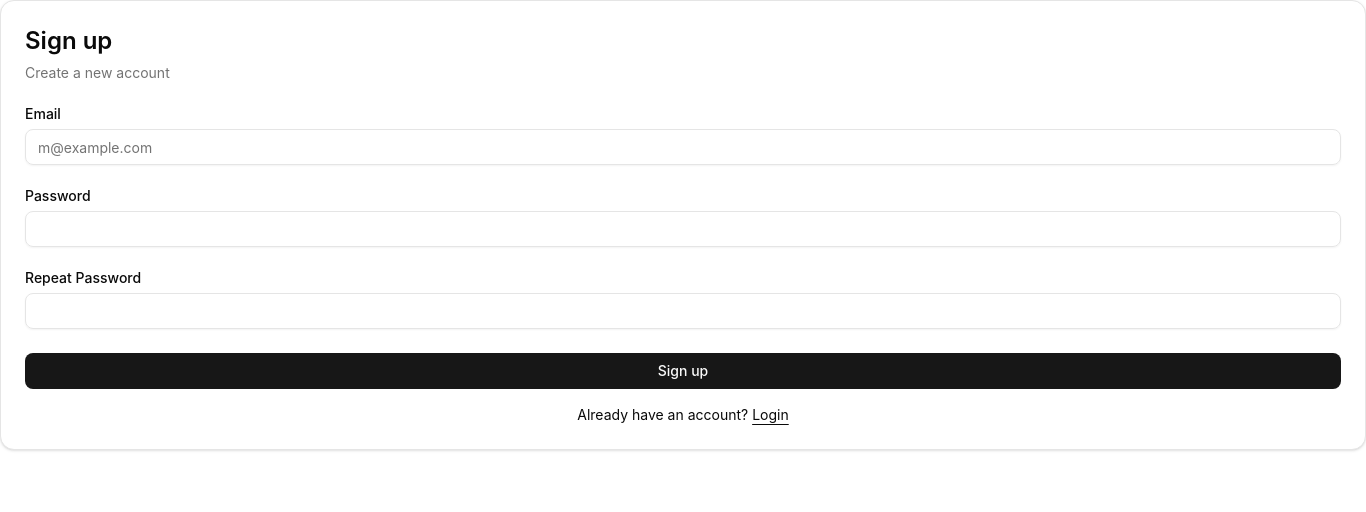
Test: SignUpForm — real Supabase signUp › NEGATIVE: Supabase error → generic message, raw detail NOT surfaced, no navigation
Type "new@brand.com" into the field labelled "Email".
click(683, 147); type("new@brand.com")  # box [25,129,1341,165]
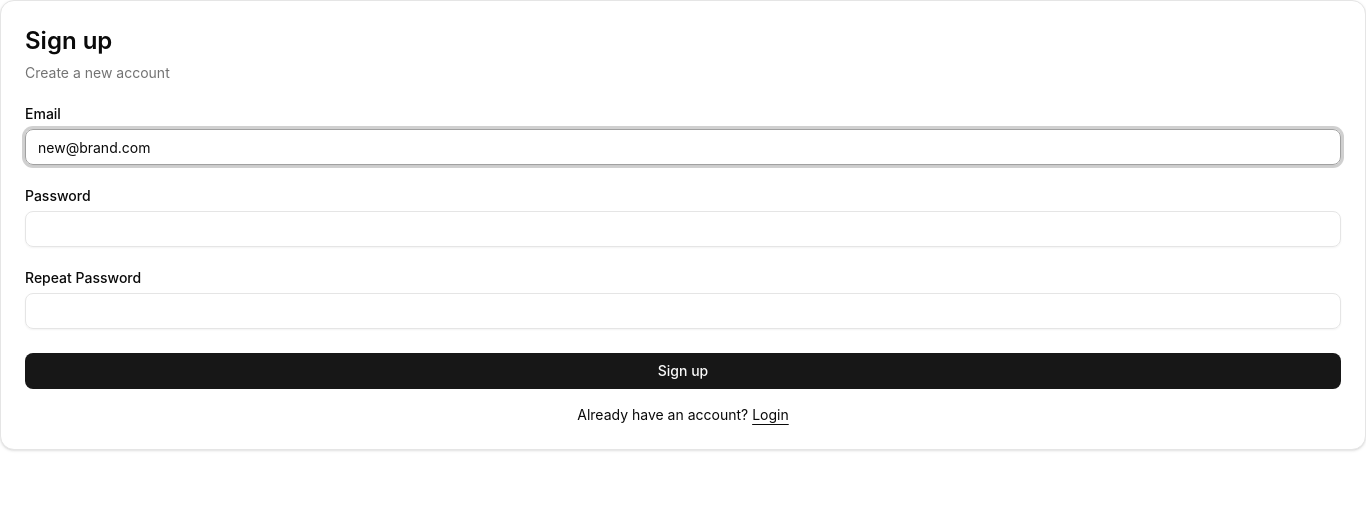
Type "realpassword" into the password field labelled "Password".
click(683, 229); type("realpassword")  # box [25,211,1341,247]
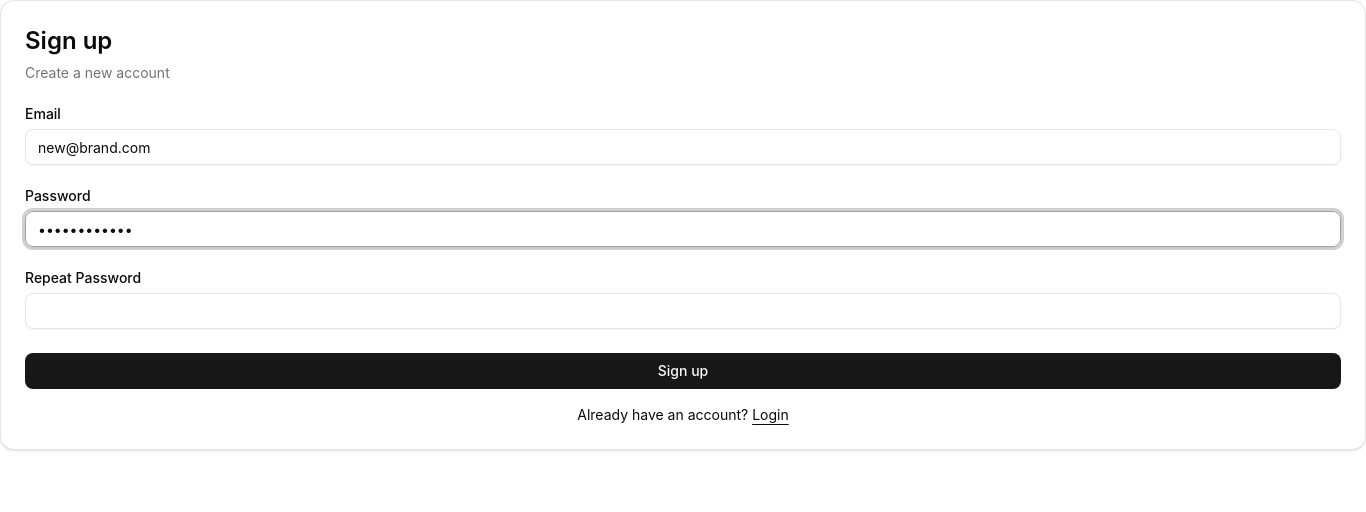
Type "realpassword" into the password field labelled "Repeat Password".
click(683, 311); type("realpassword")  # box [25,293,1341,329]
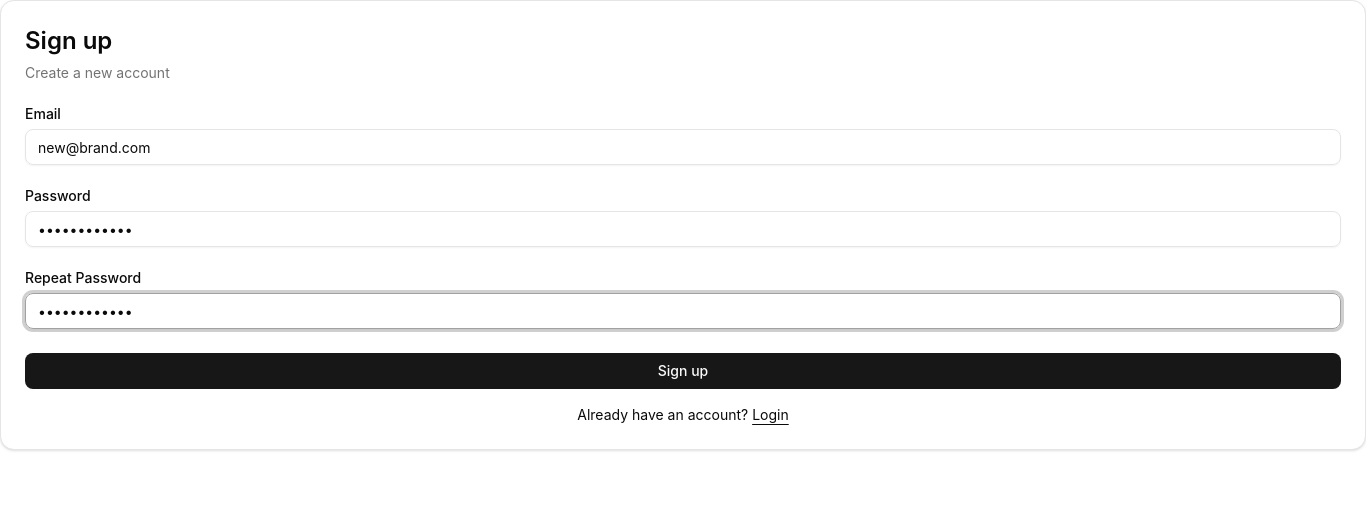
Click the button "Sign up".
click(683, 371)  # box [25,353,1341,389]
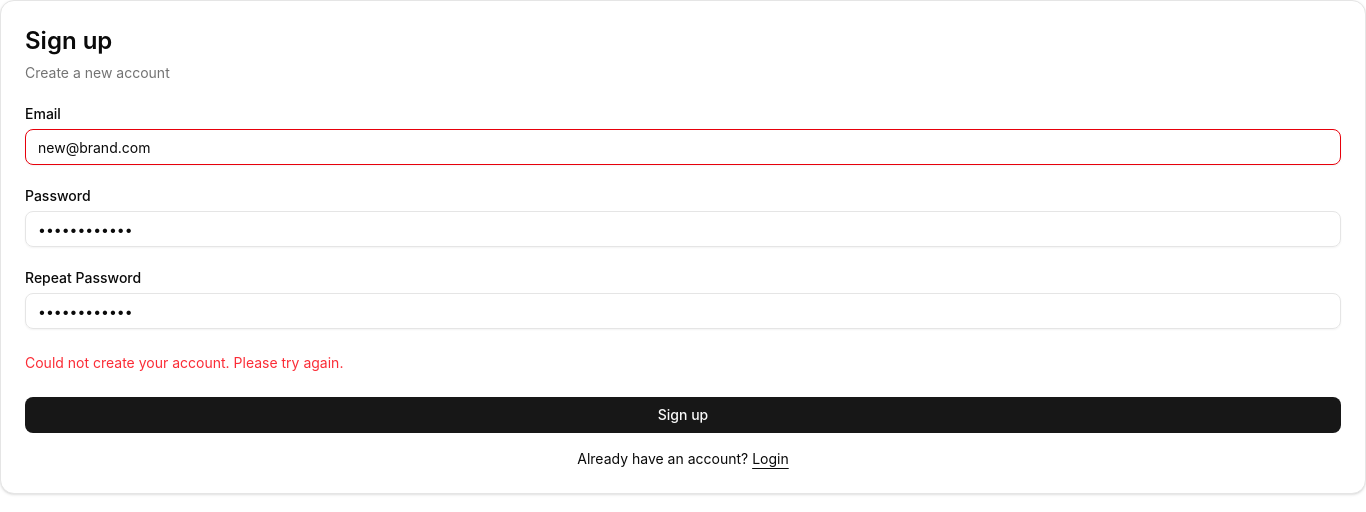
Expected: the message does not show "AuthApiError", [25,354,343,371]
Expected: the message shows "Could not create your account", [25,354,343,371]
